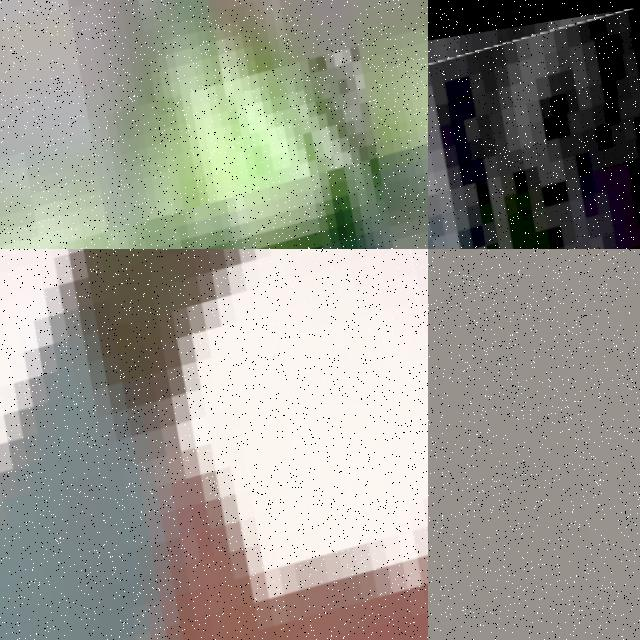0: (0, 0, 428, 249)
drone: (0, 249, 428, 640), (428, 0, 640, 249)
